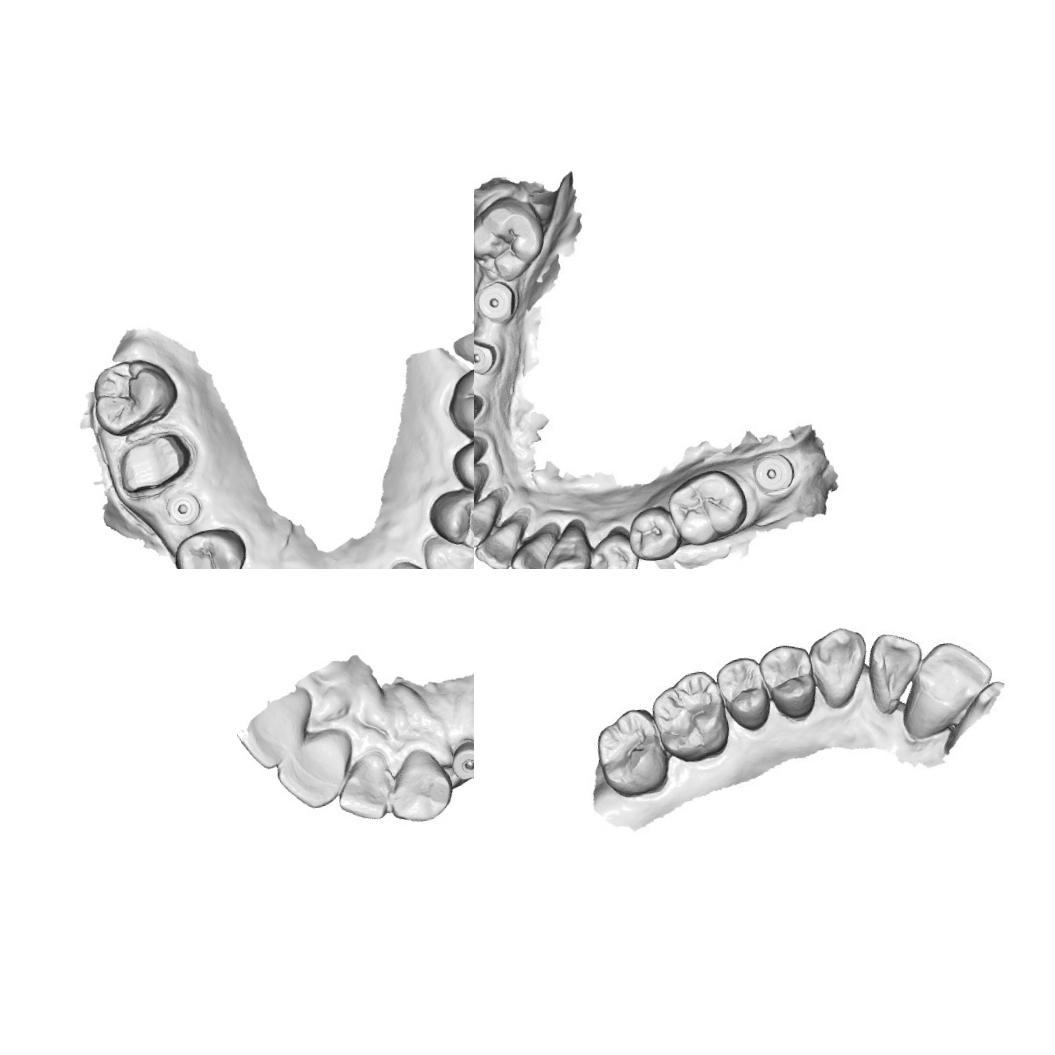canine: (380, 742, 458, 828), (808, 623, 874, 713), (535, 515, 597, 569), (419, 531, 474, 569)
crown: (115, 432, 194, 495)
implant: (748, 446, 795, 496), (474, 280, 521, 329), (165, 485, 206, 532), (447, 735, 474, 785), (474, 333, 498, 380)
incisor: (892, 632, 1004, 746), (230, 687, 322, 773), (270, 730, 355, 814), (858, 626, 932, 720), (330, 746, 396, 824), (474, 515, 525, 569), (506, 523, 563, 569), (474, 497, 503, 550), (381, 556, 442, 569), (474, 468, 488, 518)
molar: (648, 668, 732, 766), (661, 463, 754, 550), (86, 353, 181, 438), (590, 703, 672, 800), (474, 193, 541, 281), (440, 360, 474, 454)
premolar: (712, 651, 780, 735), (757, 642, 820, 729), (622, 499, 683, 568), (423, 483, 474, 558), (171, 524, 251, 569), (582, 523, 640, 569), (445, 435, 474, 505), (474, 381, 488, 441)
